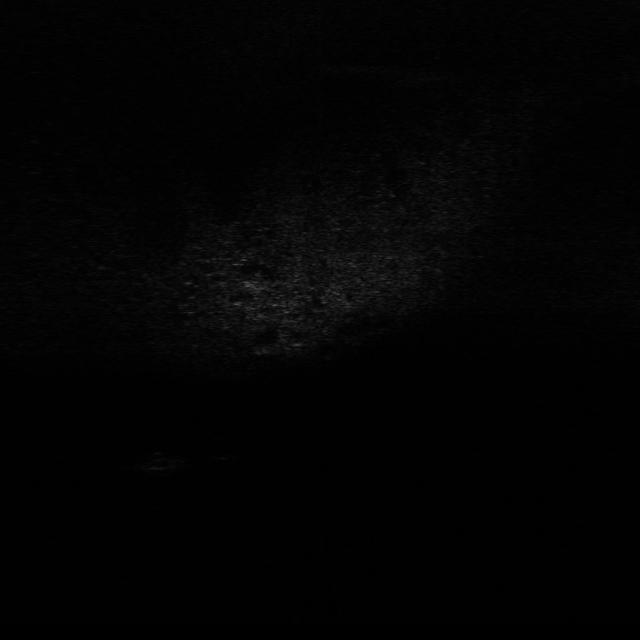ball: (204, 434, 244, 465)
circle cage: (131, 444, 188, 479)
